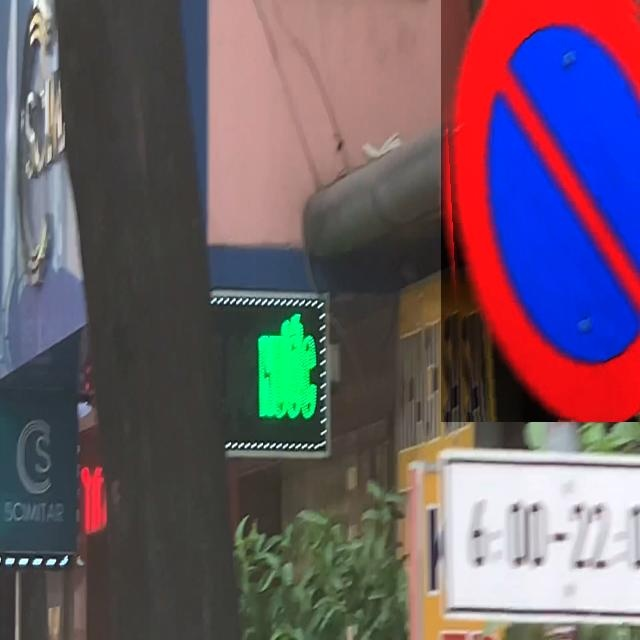bien_cam: (441, 0, 640, 422)
